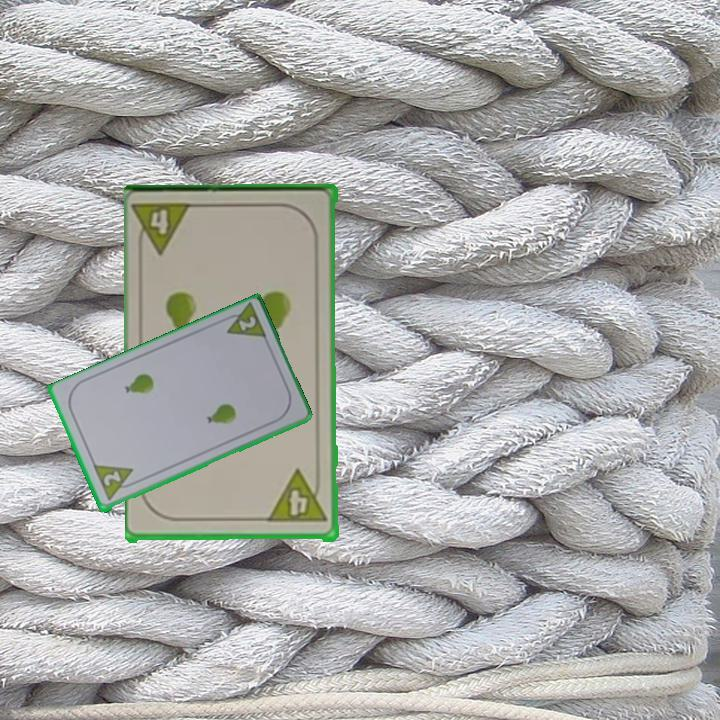2p: (100, 468, 124, 490), (235, 313, 259, 334)
4p: (132, 199, 197, 258), (266, 468, 331, 526)
